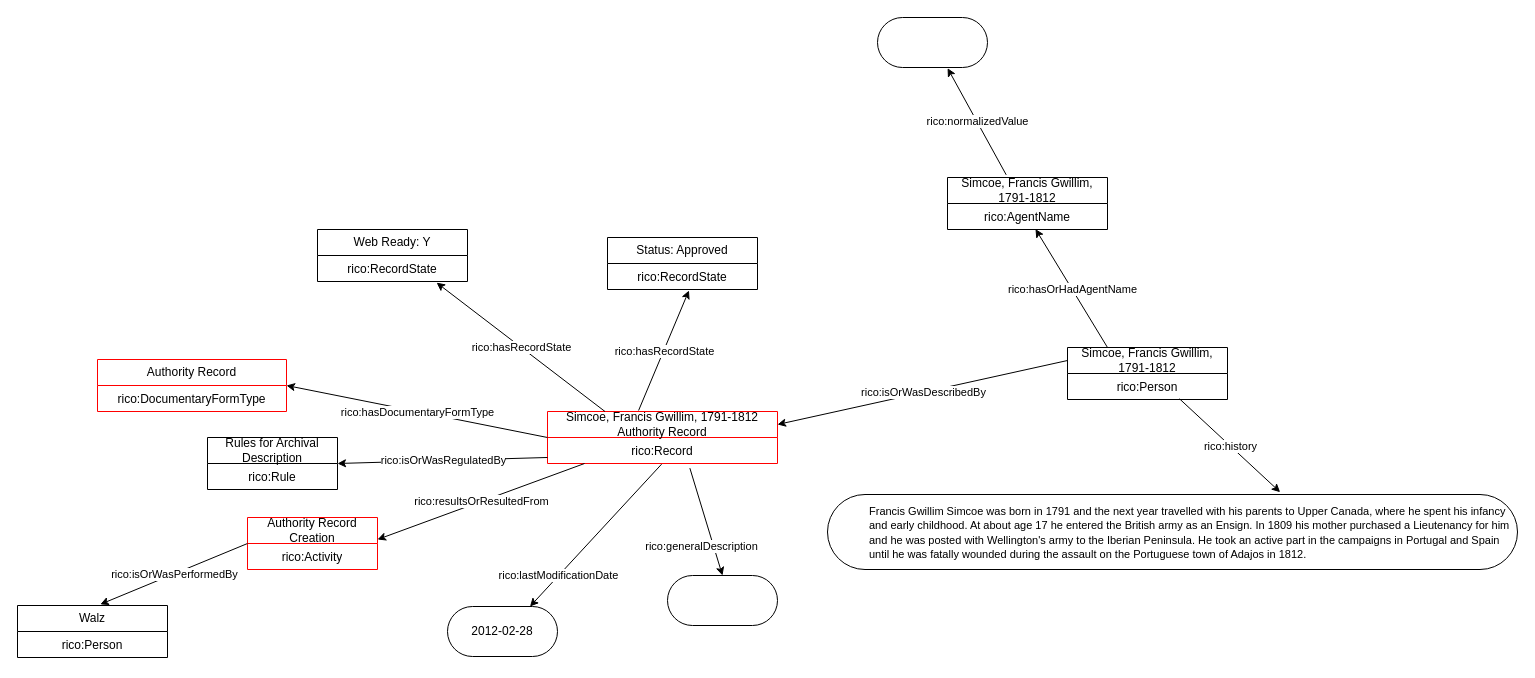
Image size: 1535x678. Some labels were removed from this diagram. The shapes that lost their labels are listed below. From the top down, each one's centre as x and y in pixels, then its label:
At (932,42): "Francis Gwillim Simcoe".
At (722,600): "Source Note: Archives of Ontario, fonds 47.".
